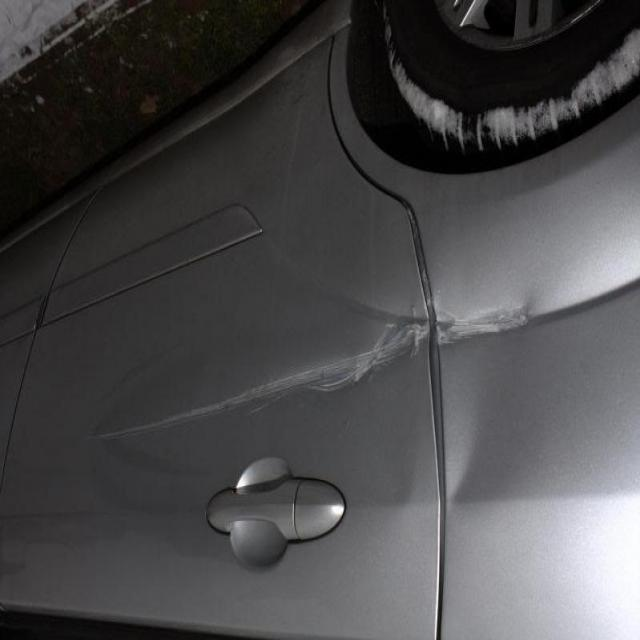scratch: (282, 269, 537, 417)
